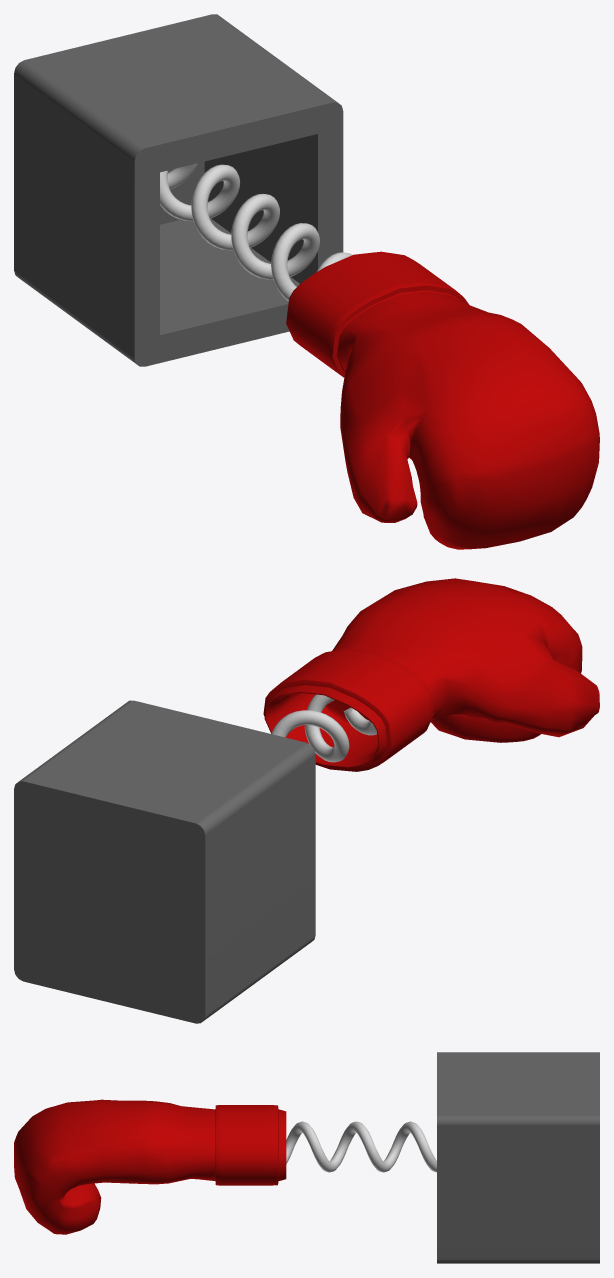
The model's file is Gloves.fbx.
3 views of the same model, one above another, from view 1: azimuth 30°, elevation 25°; view 2: azimuth 150°, elevation 25°; view 3: azimuth 270°, elevation 25° (orthographic). The views are drawn at different scales.
Parts seen in each view (by area): view 1: pushing_box:pCube1, _Leather_Boxing_Gloves_V1_L3:Leather_Boxing_Gloves_V1, pushing_box:pHelix1; view 2: pushing_box:pCube1, _Leather_Boxing_Gloves_V1_L3:Leather_Boxing_Gloves_V1, pushing_box:pHelix1; view 3: pushing_box:pCube1, _Leather_Boxing_Gloves_V1_L3:Leather_Boxing_Gloves_V1, pushing_box:pHelix1.
Part boxes in pixels (box(x1,y1,x2,y2)): pushing_box:pCube1: box(14, 14, 343, 366); _Leather_Boxing_Gloves_V1_L3:Leather_Boxing_Gloves_V1: box(286, 251, 599, 549); pushing_box:pHelix1: box(160, 163, 352, 301); pushing_box:pCube1: box(14, 700, 315, 1023); _Leather_Boxing_Gloves_V1_L3:Leather_Boxing_Gloves_V1: box(263, 578, 599, 771); pushing_box:pHelix1: box(271, 694, 376, 762); pushing_box:pCube1: box(437, 1052, 599, 1263); _Leather_Boxing_Gloves_V1_L3:Leather_Boxing_Gloves_V1: box(14, 1099, 286, 1234); pushing_box:pHelix1: box(286, 1121, 436, 1172).
Bounding box in the file's own units: 4.16 × 3.55 × 12.76.
